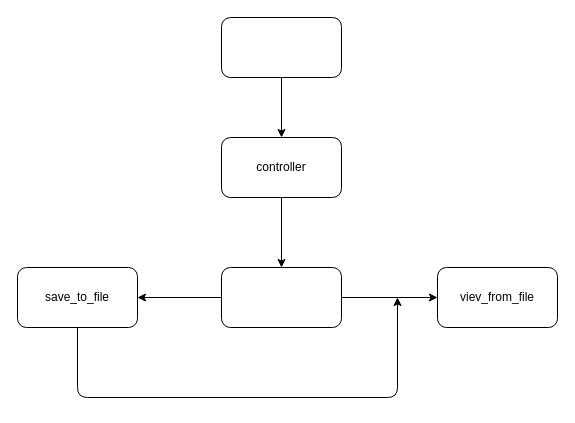
Image size: 575x423. Some labels were removed from this diagram. Here are the shapes that lost their labels. From the top down, the centre of each, then its label:
[281,47]: data
[281,297]: main
